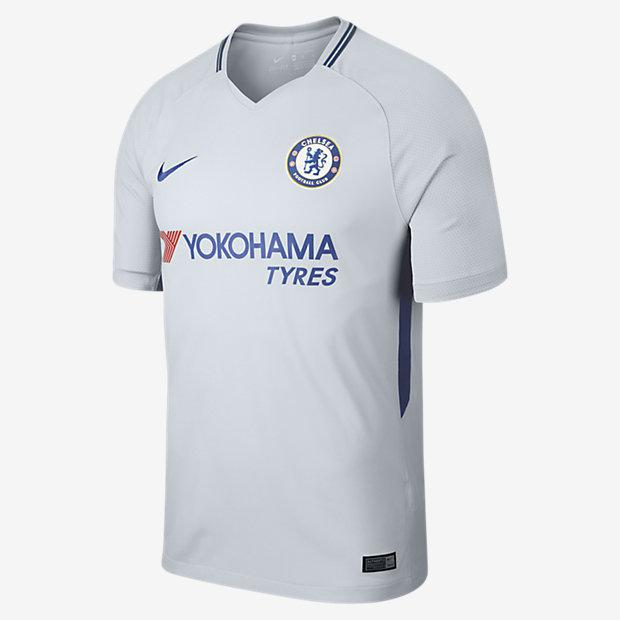teeshirt: (109, 17, 517, 603)
